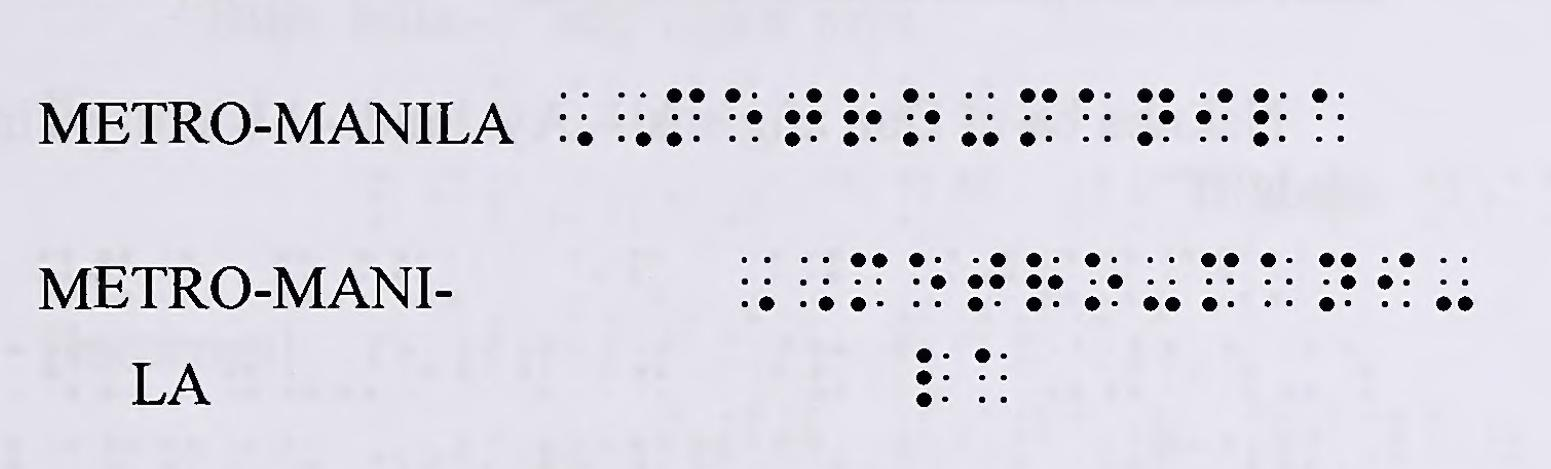A: (974, 346, 1011, 407), (1312, 89, 1348, 144), (1078, 87, 1113, 143), (1260, 251, 1292, 307)
E: (909, 252, 948, 309), (726, 88, 762, 146)
I: (1378, 251, 1413, 310), (1198, 88, 1232, 146)
L: (1252, 87, 1288, 147), (917, 348, 953, 408)
M: (1199, 252, 1240, 312), (667, 87, 707, 147), (1018, 87, 1058, 146), (848, 252, 887, 312)
N: (1317, 251, 1362, 314), (1137, 86, 1176, 151)
O: (1086, 252, 1126, 312), (901, 87, 939, 148)
R: (841, 87, 882, 147), (1027, 253, 1060, 311)
T: (786, 89, 824, 149), (967, 252, 1004, 312)
capital: (738, 257, 776, 313), (556, 90, 593, 144), (800, 256, 833, 314), (618, 92, 651, 148)
